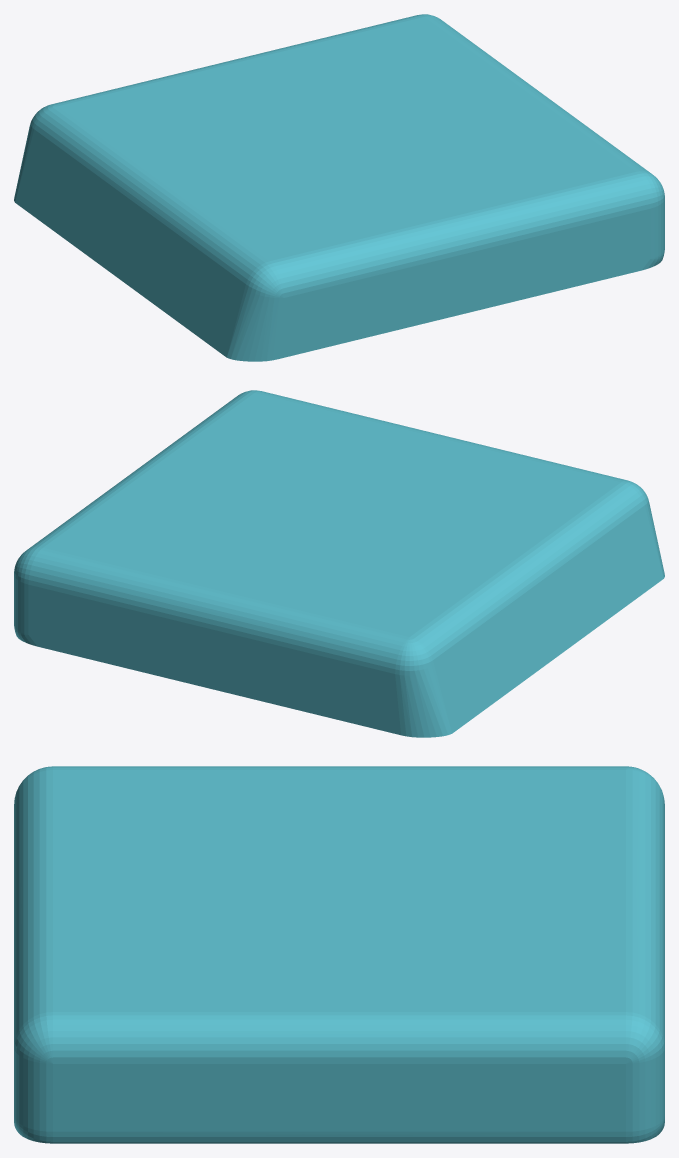
The picture shows the model from 3 angles, top to bottom: view 1: azimuth 30°, elevation 25°; view 2: azimuth 150°, elevation 25°; view 3: azimuth 270°, elevation 25°; orthographic projection. The views are drawn at different scales.
Size of the model in its own units: 0.0397 by 0.00751 by 0.0381.
